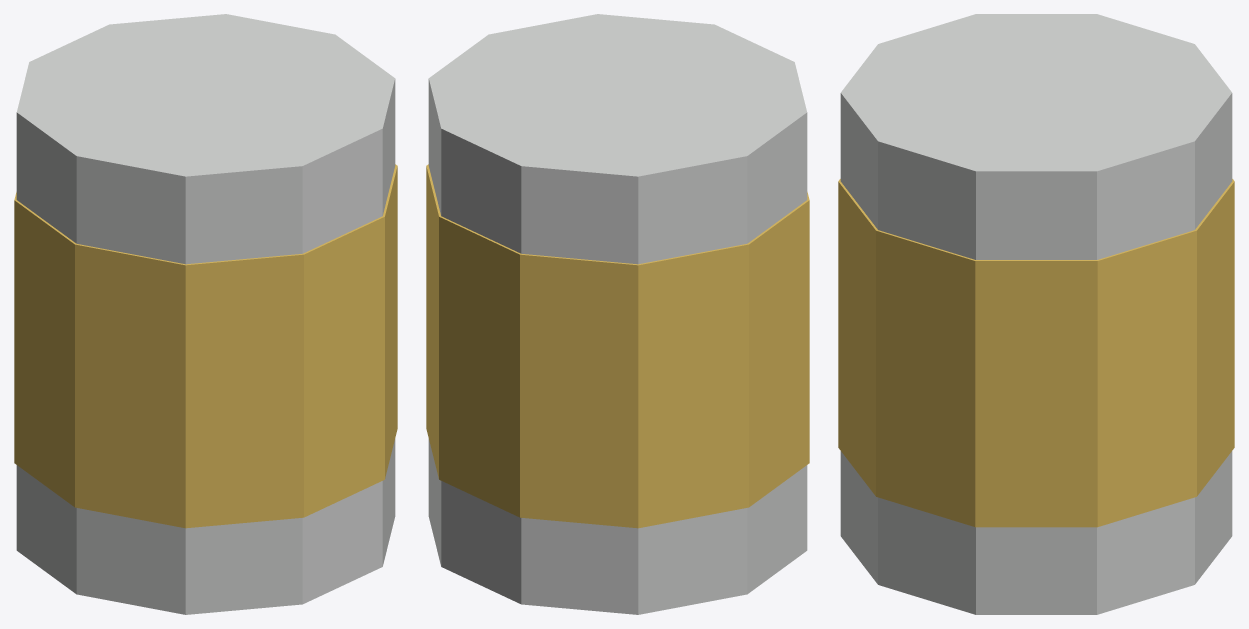
File: lata_comida.glb
3 views of the same model, side by side, from view 1: azimuth 30°, elevation 25°; view 2: azimuth 150°, elevation 25°; view 3: azimuth 270°, elevation 25° (orthographic).
Parts seen in each view (by area): view 1: lata_comida; view 2: lata_comida; view 3: lata_comida.
Part boxes in pixels (left/top/right/bottom): lata_comida: left=14, top=14, right=397, bottom=614; lata_comida: left=426, top=14, right=809, bottom=614; lata_comida: left=838, top=14, right=1234, bottom=614.
Size of the model in its own units: 0.077 by 0.1 by 0.081.
